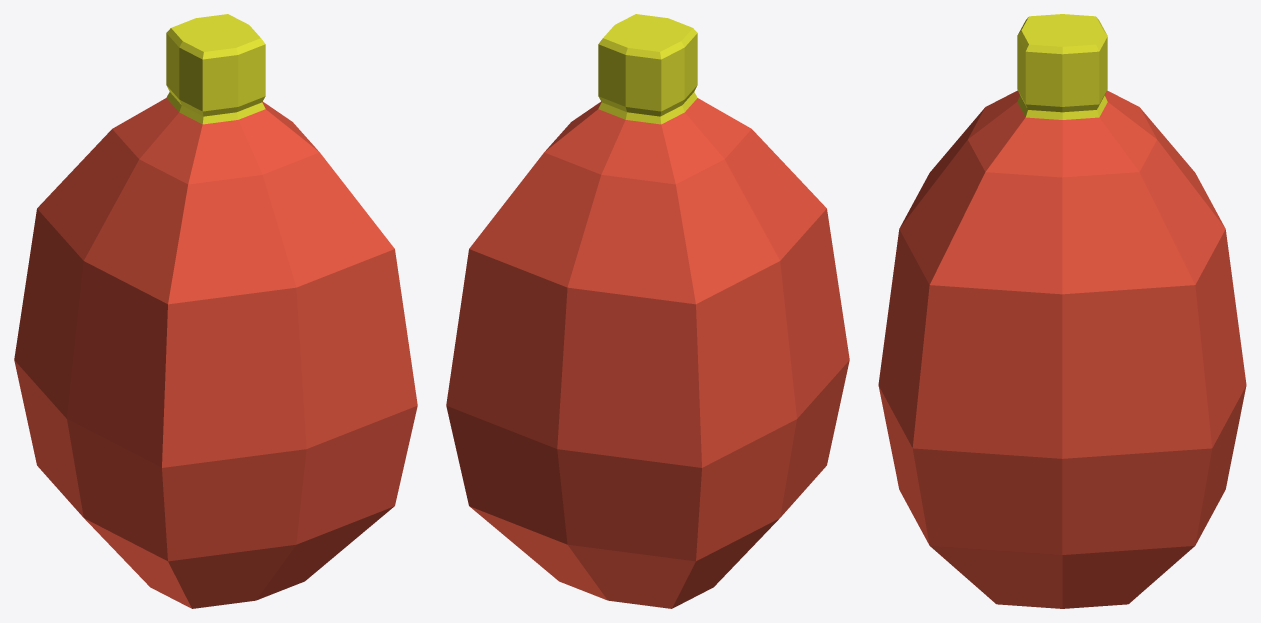
Rendered from kecap.glb.
3 renders of one model, left to right at view 1: azimuth 30°, elevation 25°; view 2: azimuth 150°, elevation 25°; view 3: azimuth 270°, elevation 25°, orthographic.
Parts seen in each view (by area): view 1: Cube; view 2: Cube; view 3: Cube.
Part boxes in pixels (box(x1,y1,x2,y2)): Cube: box(14, 14, 417, 608); Cube: box(446, 14, 849, 608); Cube: box(878, 14, 1246, 608).
Bounding box in the file's own units: 3.21 × 5.53 × 3.38.
